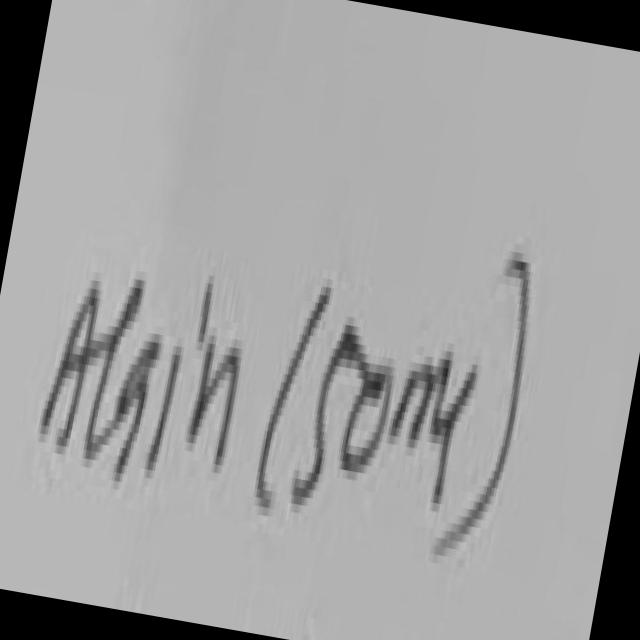0: (342, 353, 393, 470)
5: (293, 325, 366, 504)
A: (40, 288, 97, 442)
g: (114, 341, 160, 477), (436, 372, 477, 499)
i: (148, 354, 178, 469), (198, 283, 212, 338)
l: (85, 279, 143, 458)
m: (391, 359, 451, 444)
n: (189, 347, 239, 461)
